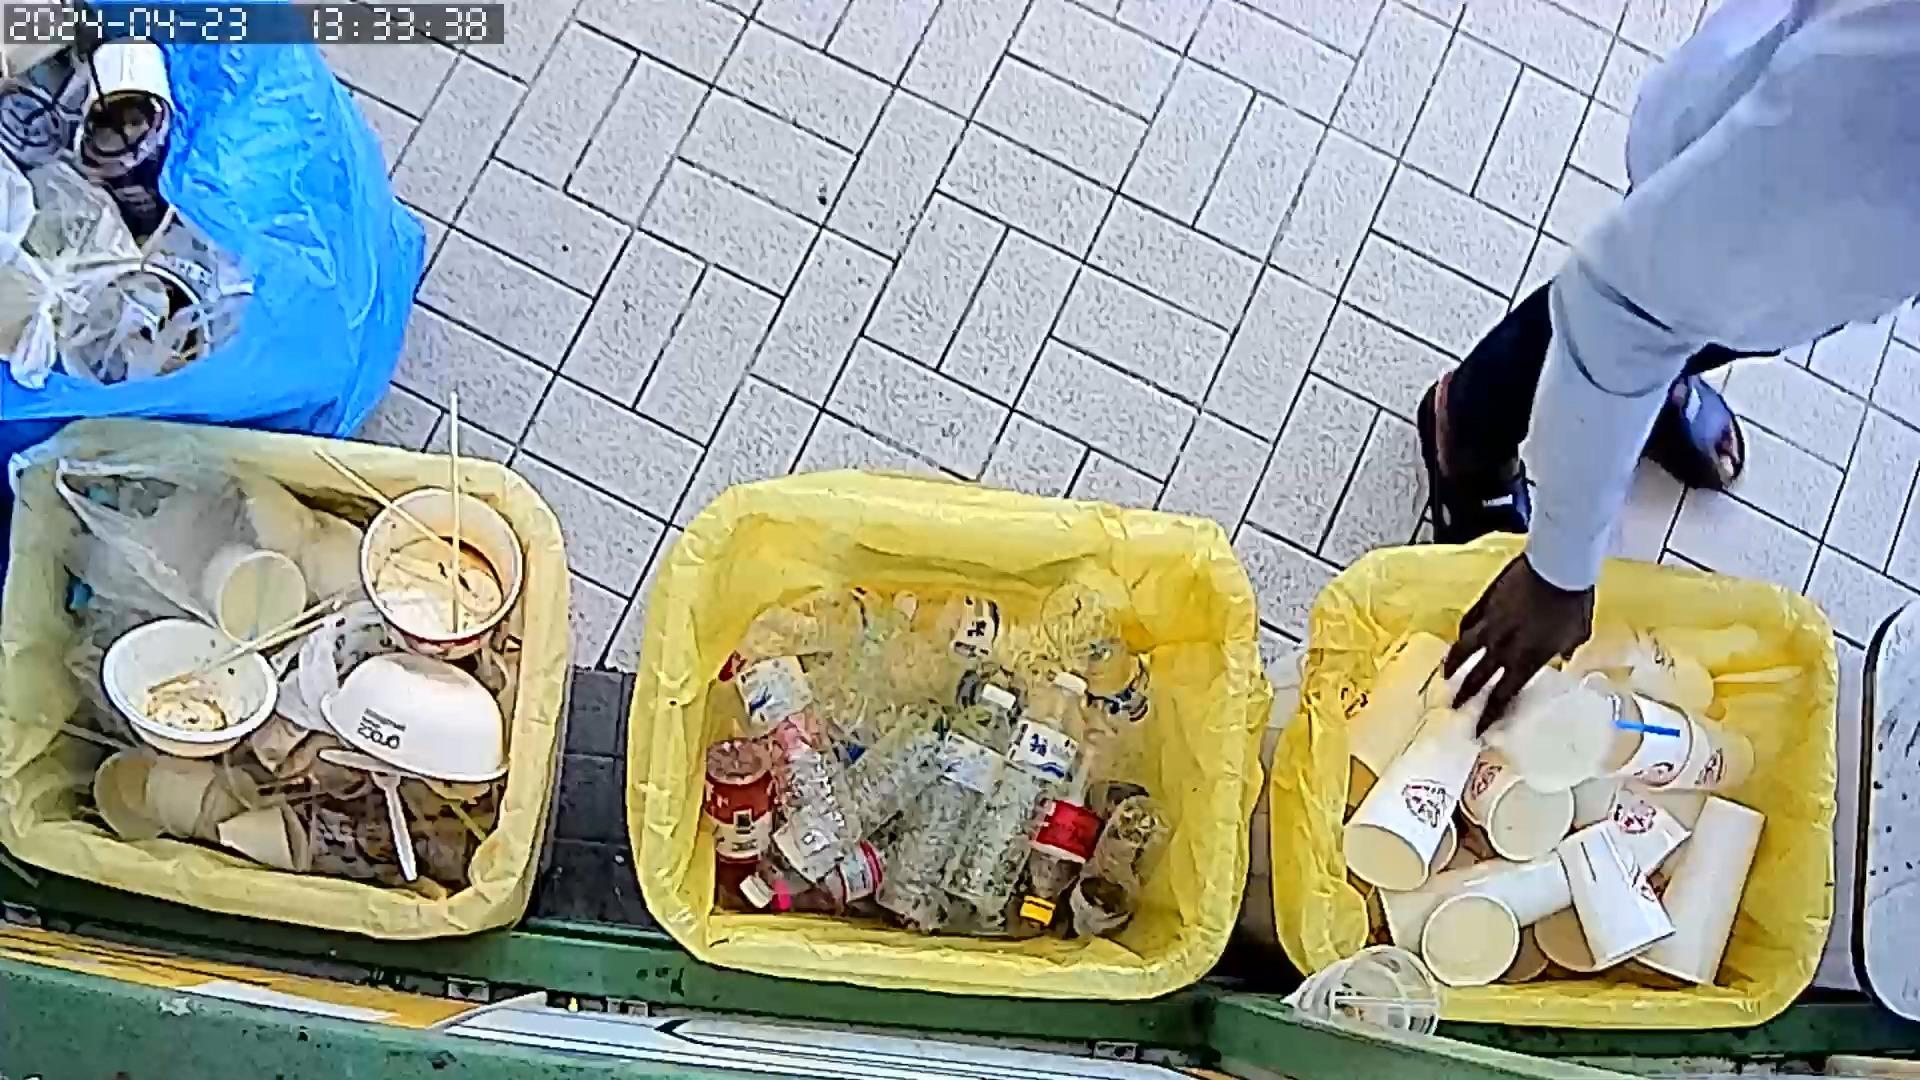can: (711, 736, 771, 861)
filled plastic bag: (16, 426, 330, 662)
food container: (357, 488, 527, 665), (322, 647, 522, 793), (99, 617, 277, 760), (1414, 884, 1526, 993), (145, 761, 265, 848), (91, 748, 169, 844)
plastic bottle: (738, 702, 967, 910), (873, 679, 1021, 923), (728, 605, 868, 858), (945, 669, 1088, 910), (1021, 698, 1124, 928), (1038, 579, 1153, 728), (890, 588, 1059, 679), (1067, 795, 1174, 935)
plastic cutlery: (381, 559, 505, 608), (376, 761, 415, 884), (318, 745, 422, 781)
sticks: (141, 605, 327, 698), (141, 621, 331, 698), (320, 448, 447, 554), (439, 388, 460, 629)
straw: (427, 782, 496, 845), (38, 717, 133, 756), (1331, 992, 1445, 1010)
tissue paper: (223, 798, 307, 877)
zero waste cup: (1342, 702, 1489, 887), (1636, 786, 1768, 981), (1345, 625, 1468, 808), (1555, 815, 1685, 978), (1370, 848, 1577, 942), (1460, 749, 1582, 861), (1642, 703, 1753, 795)
